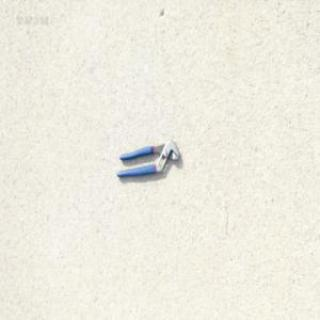Pliertrack_idkeyframe: (115, 136, 179, 177)
